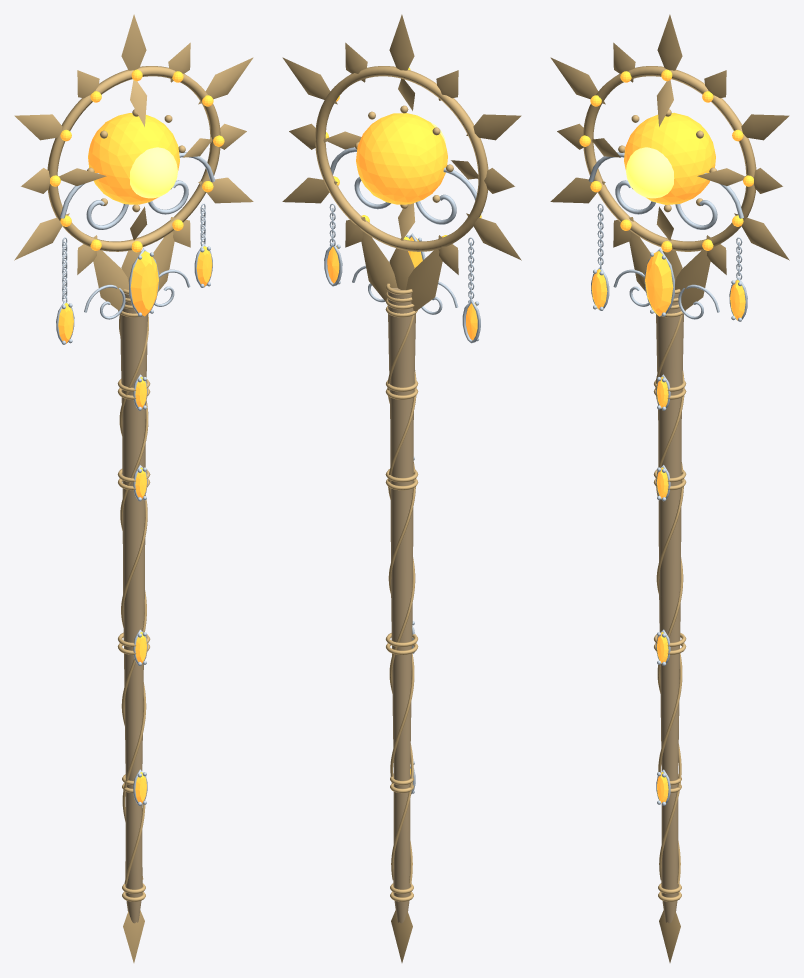
Rendered from staff-sun.glb.
The picture shows the model from 3 angles, left to right: view 1: azimuth 30°, elevation 25°; view 2: azimuth 150°, elevation 25°; view 3: azimuth 330°, elevation 25°; orthographic projection.
Parts seen in each view (by area): view 1: champagneGold, ivoryEnamel, solarCrystal, moonSilver, celestialCore; view 2: champagneGold, ivoryEnamel, solarCrystal, moonSilver; view 3: champagneGold, ivoryEnamel, solarCrystal, moonSilver, celestialCore.
Part boxes in pixels (x1,y1,x2,y2): champagneGold: (14,14,253,962); ivoryEnamel: (120,293,147,923); solarCrystal: (50,69,224,803); moonSilver: (56,152,215,805); celestialCore: (129,147,177,198); champagneGold: (282,14,521,962); ivoryEnamel: (387,288,415,923); solarCrystal: (325,67,481,774); moonSilver: (324,147,483,794); champagneGold: (550,14,789,962); ivoryEnamel: (656,293,683,923); solarCrystal: (579,69,753,803); moonSilver: (588,152,747,805); celestialCore: (626,147,674,198).
Bounding box in the file's own units: 1.52 × 5.77 × 0.59.
